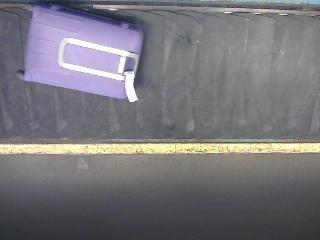Suitcase: (25, 5, 143, 102)
